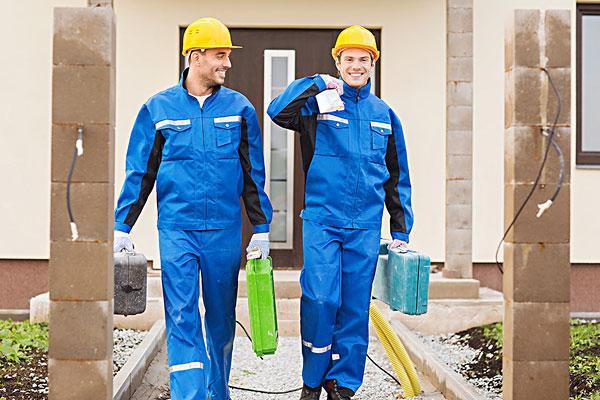helmet: (182, 18, 244, 59), (332, 26, 382, 67)
